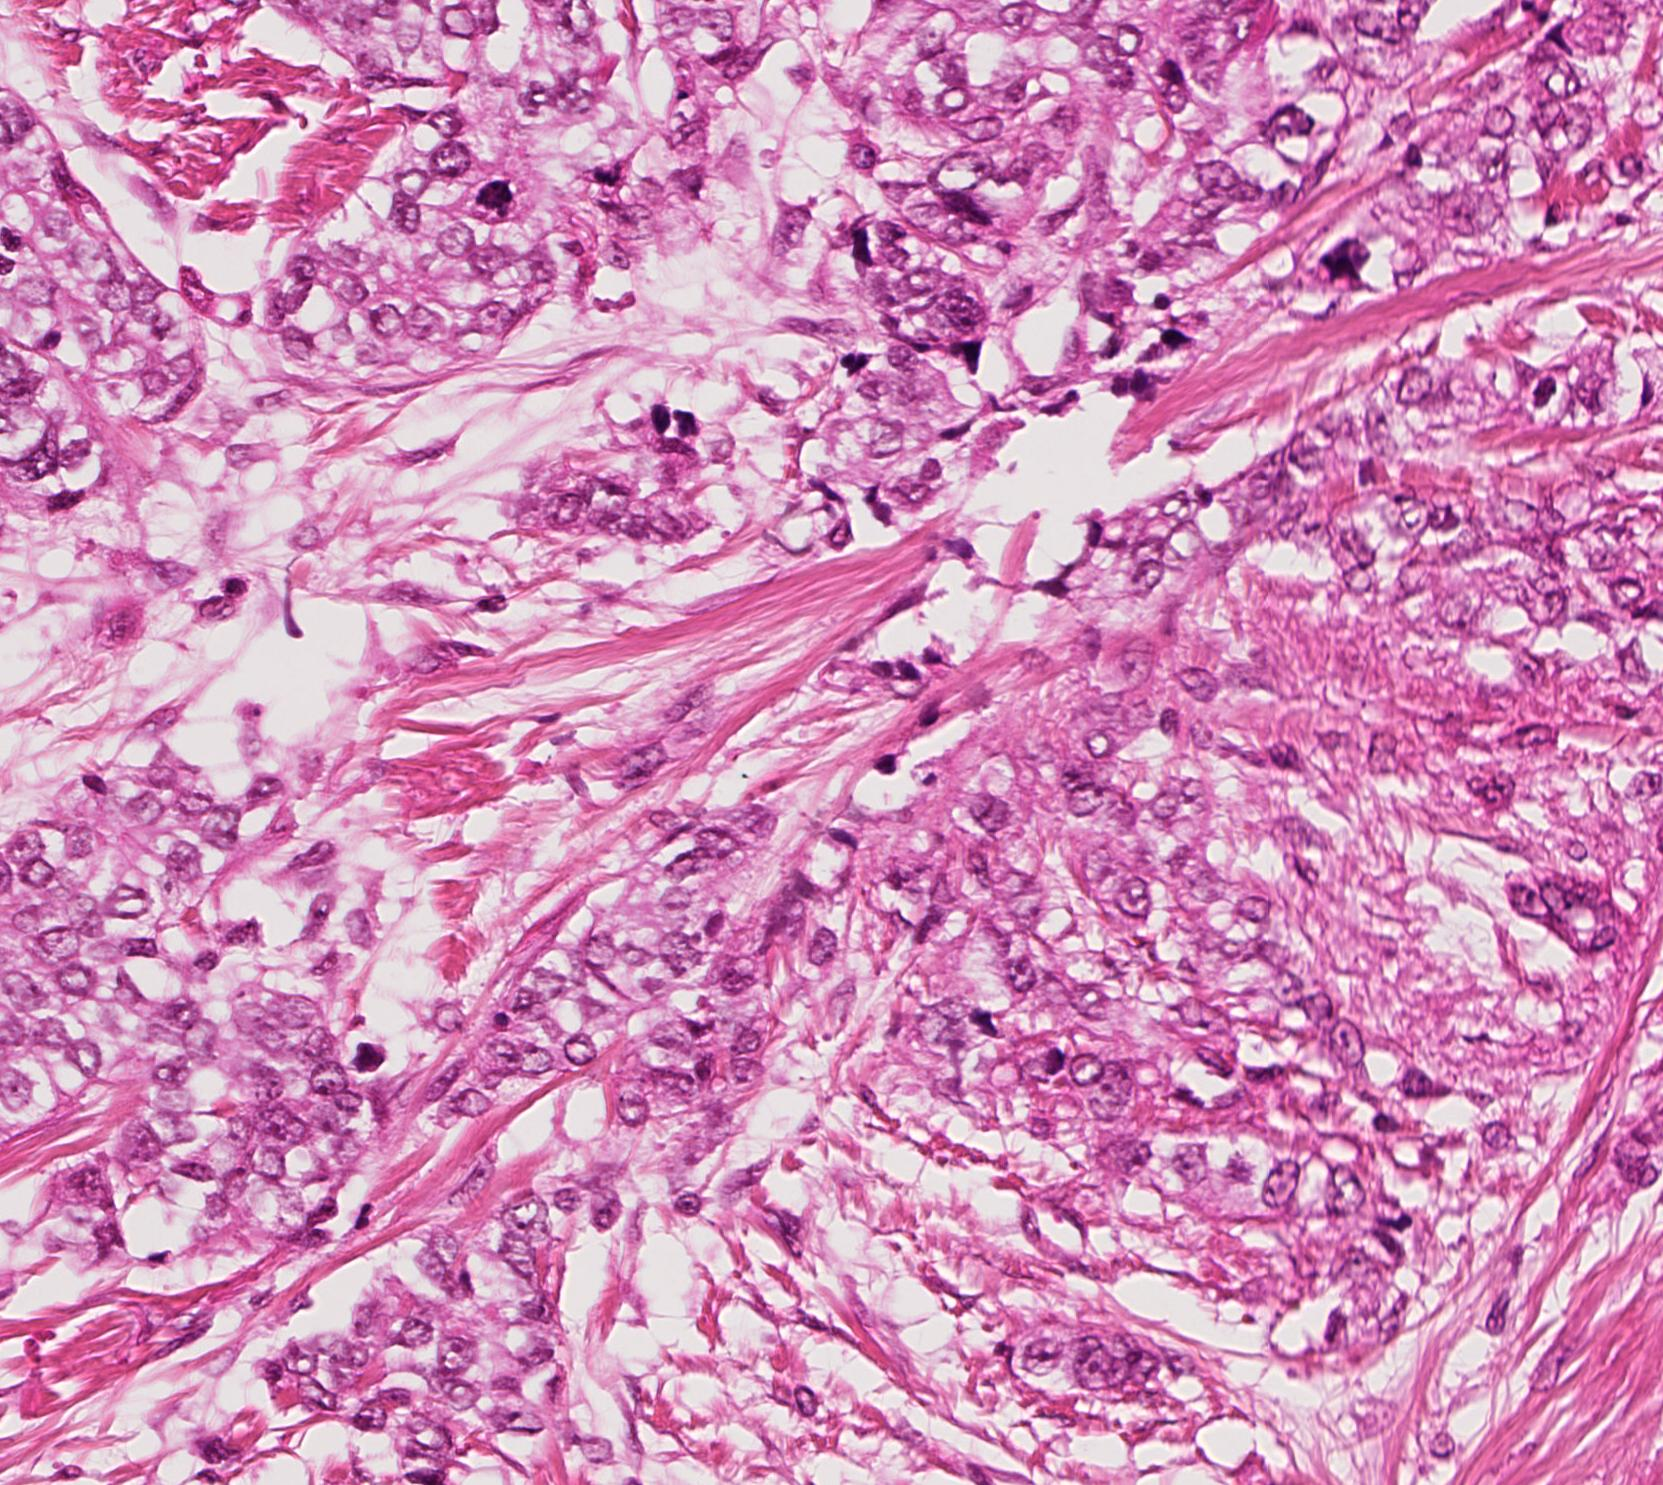mitosis: (459, 166, 519, 226)
